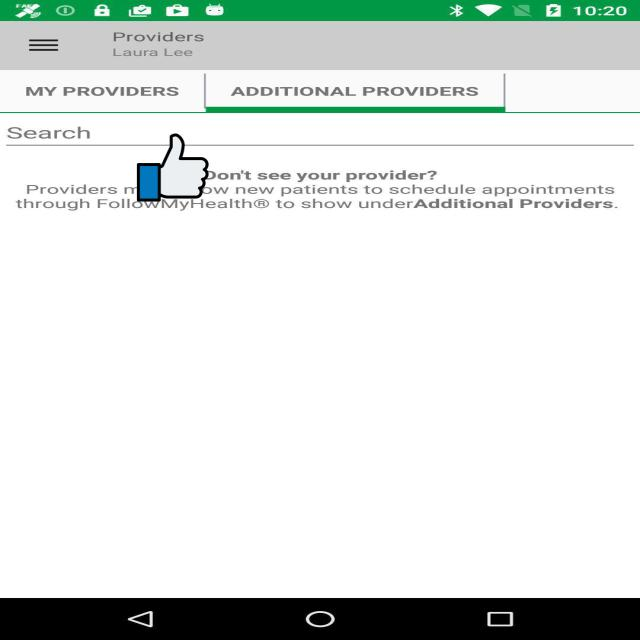privacy zuckering: (137, 132, 208, 203)
